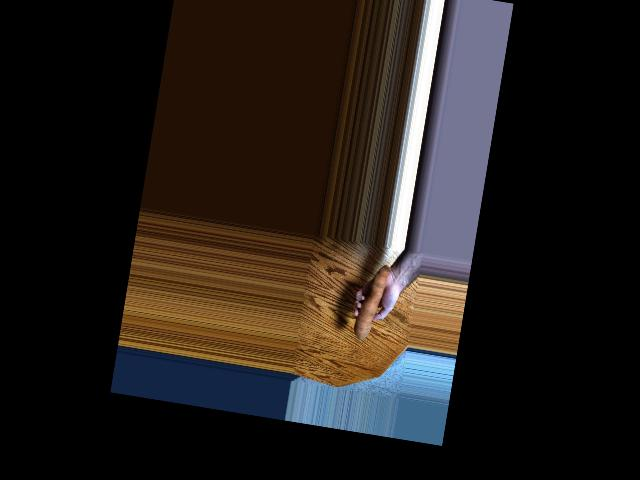sweet_potato: (348, 265, 393, 346)
